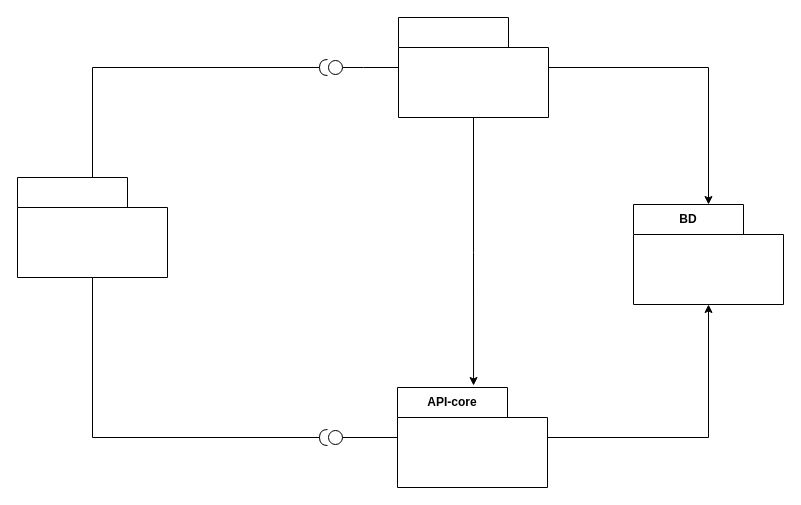
This 801x505 diagram has some shape labels left out. Here are the shapes that lost their labels. From the top down, the box of each, then its label:
(398, 16, 548, 118): API-relatório
(16, 176, 168, 278): Front
